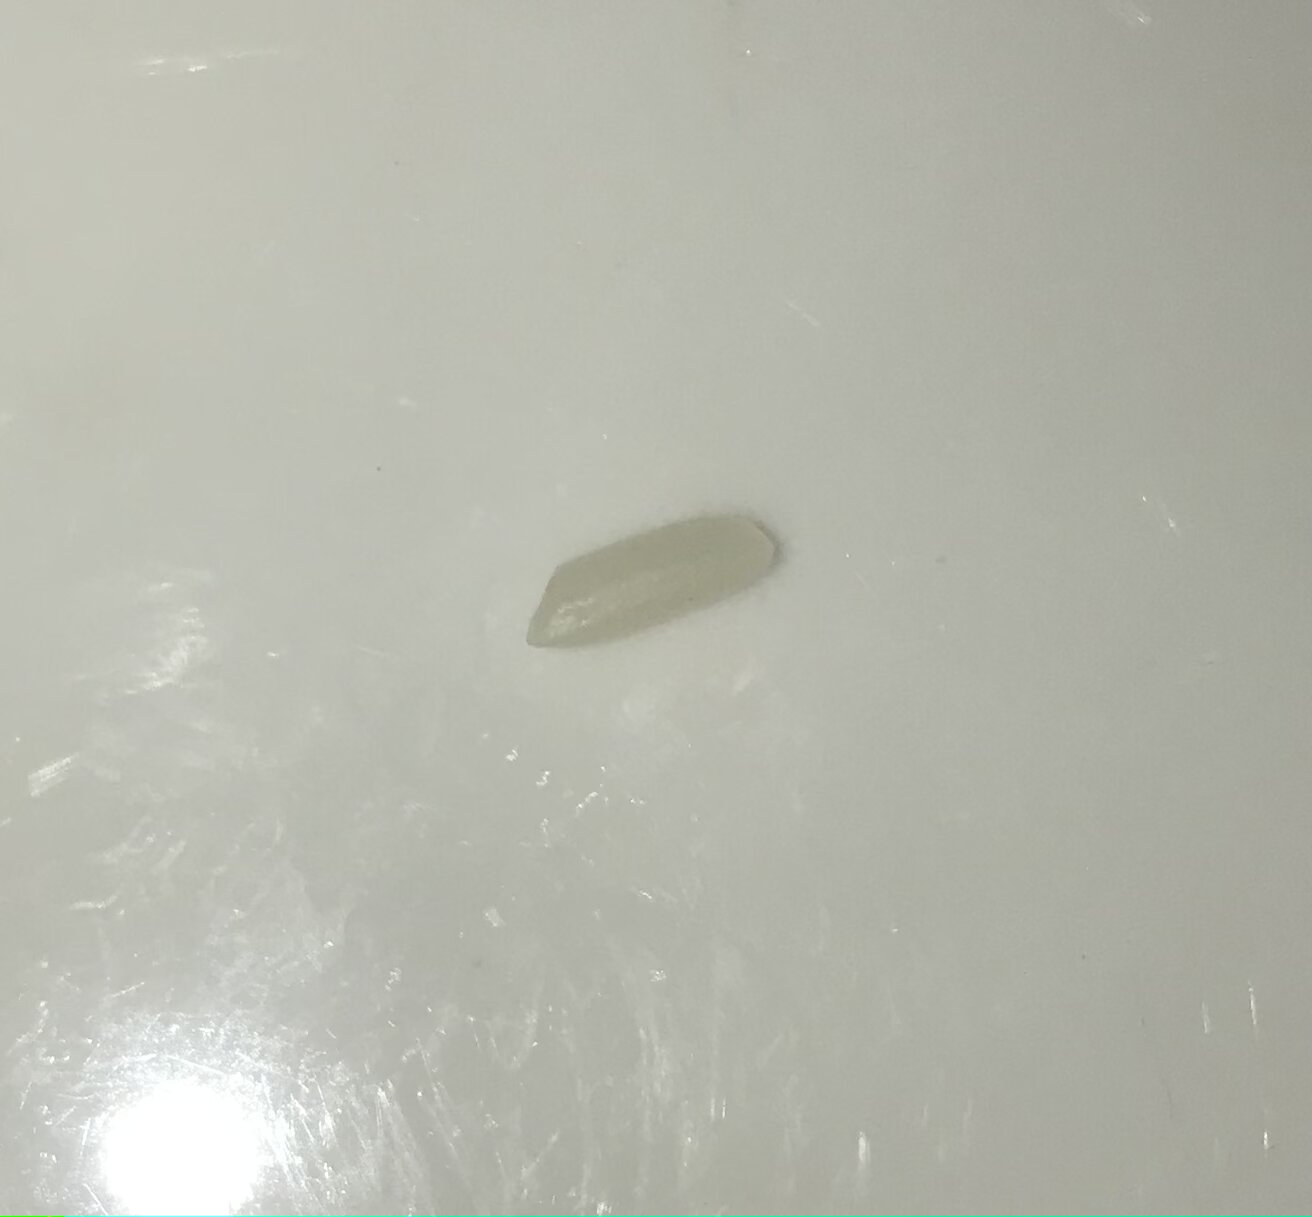Gao Lai Sua: (526, 491, 785, 665)
